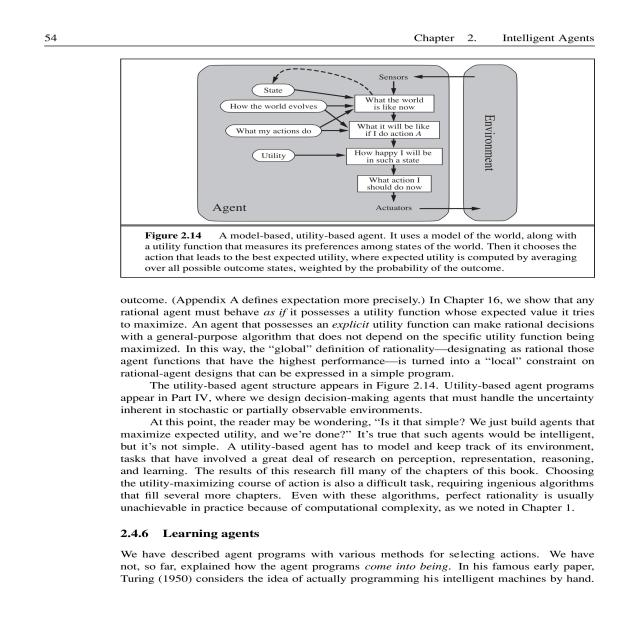diagram: (120, 60, 607, 282)
